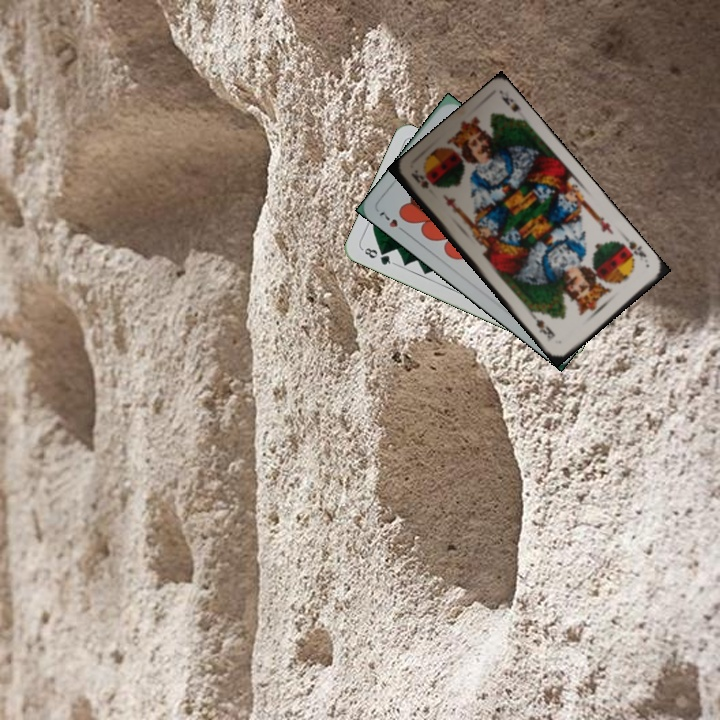G8: (358, 244, 397, 268)
H7: (375, 207, 409, 236)
SK: (616, 234, 649, 263), (407, 165, 431, 192)
